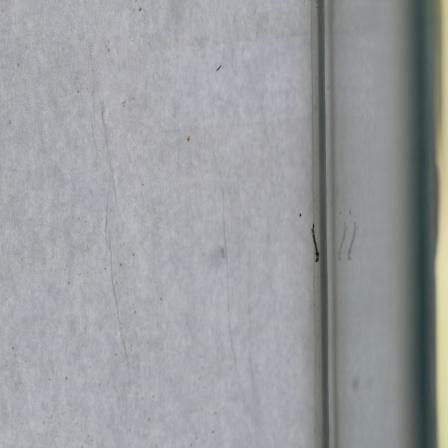Jentik-Nyamuk: (307, 219, 322, 267)
